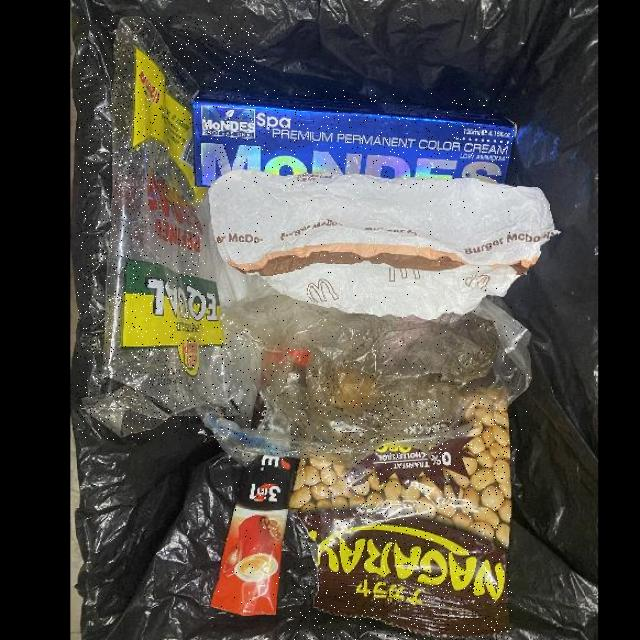paper: (207, 170, 558, 320), (191, 89, 517, 188)
plastic: (211, 296, 532, 467)
wrapper: (78, 17, 256, 440), (289, 398, 512, 640), (210, 455, 300, 617), (262, 348, 310, 384)
